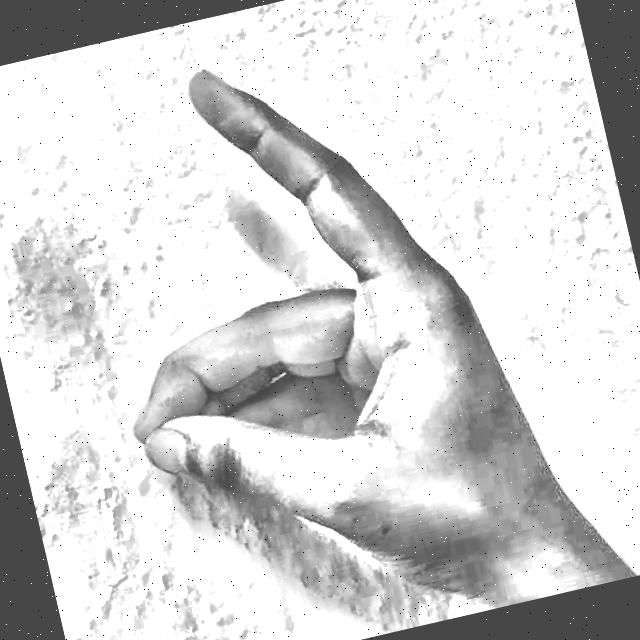Dha: (27, 0, 634, 640)
